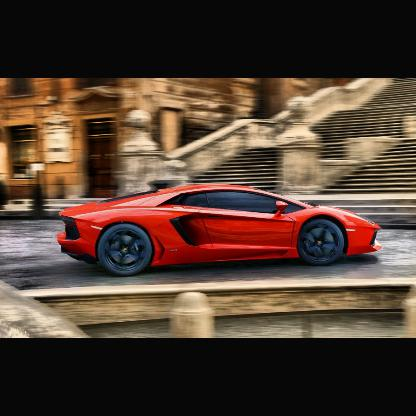Lamborghini Aventador Coupe 2012: (57, 185, 383, 274)
